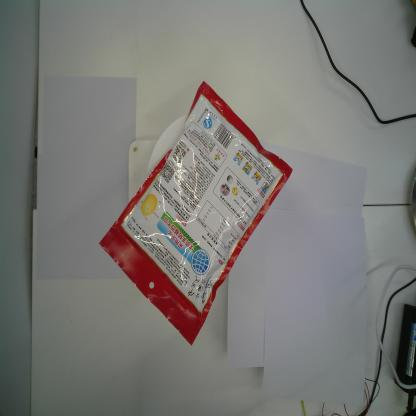Instant Drink: (97, 81, 294, 347)
